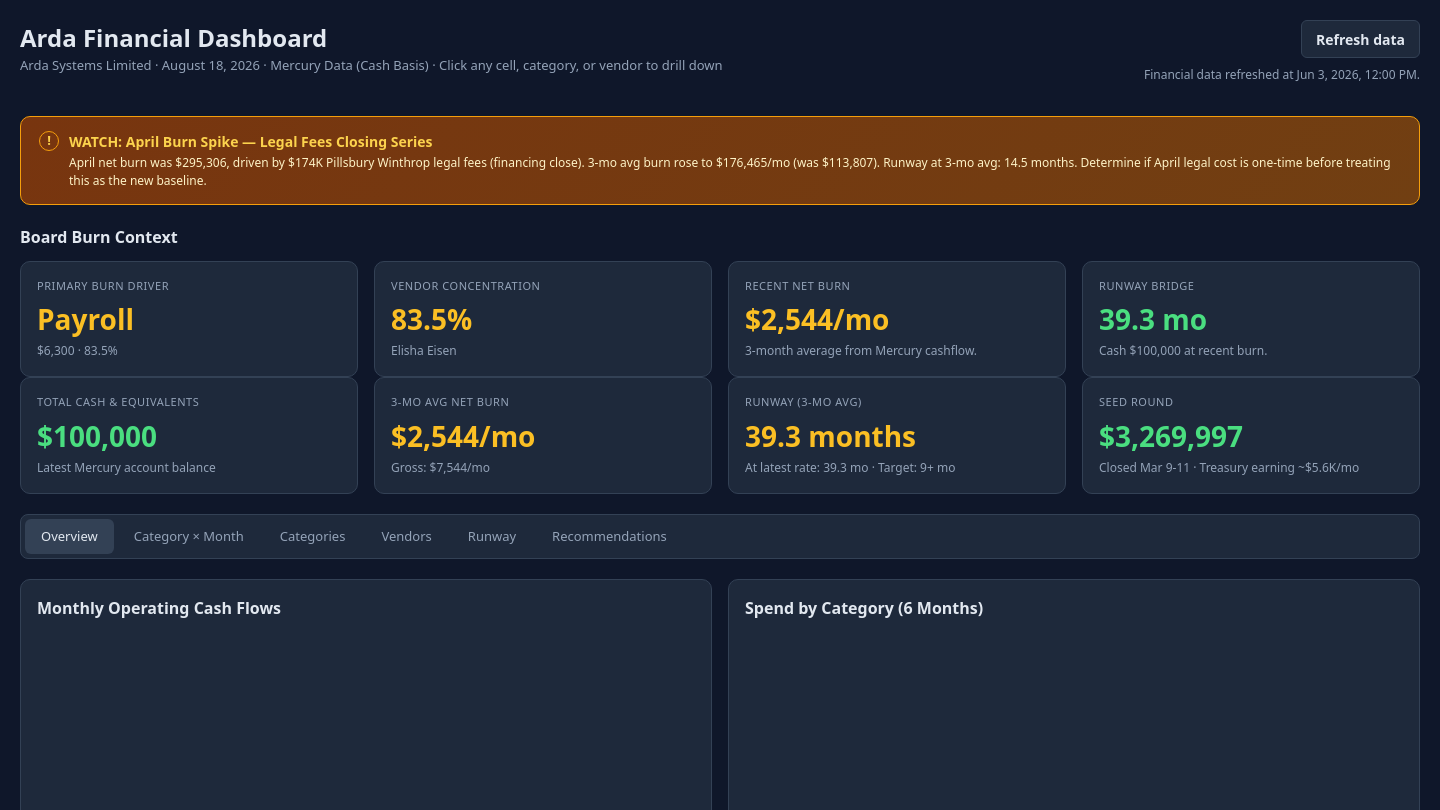
Test: ExpenseDashboard › refreshes from the local WIPGuard expense dashboard API
This screenshot has width=1440, height=810.
Click the button "Refresh data": [1361, 39] box [1301,20,1420,58]
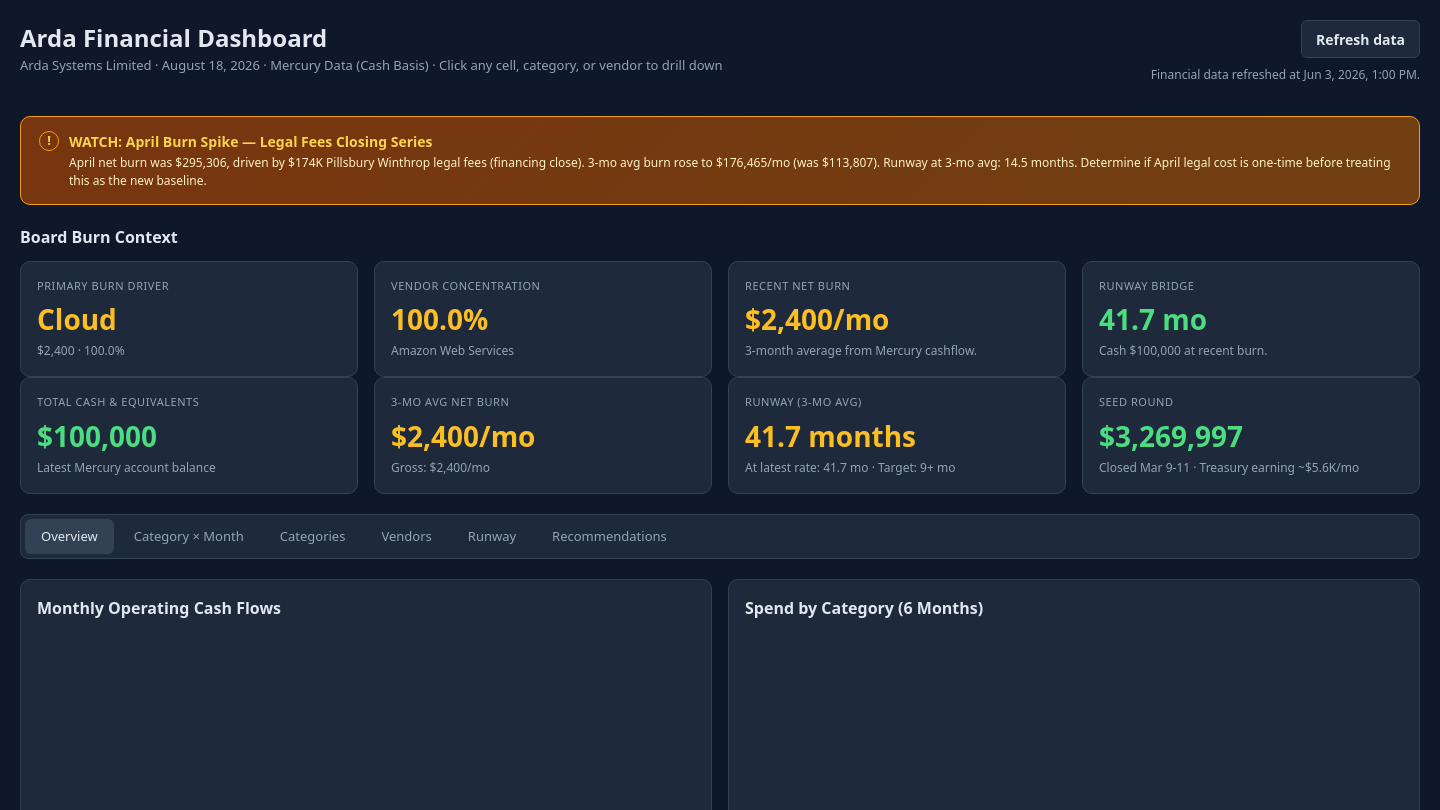
Check: the text "Financial data refreshed at Jun 3, 2026, 1:00 PM." is shown, box [1151,66,1420,84]
Click the button "Categories": [313, 536] box [264,518,361,554]
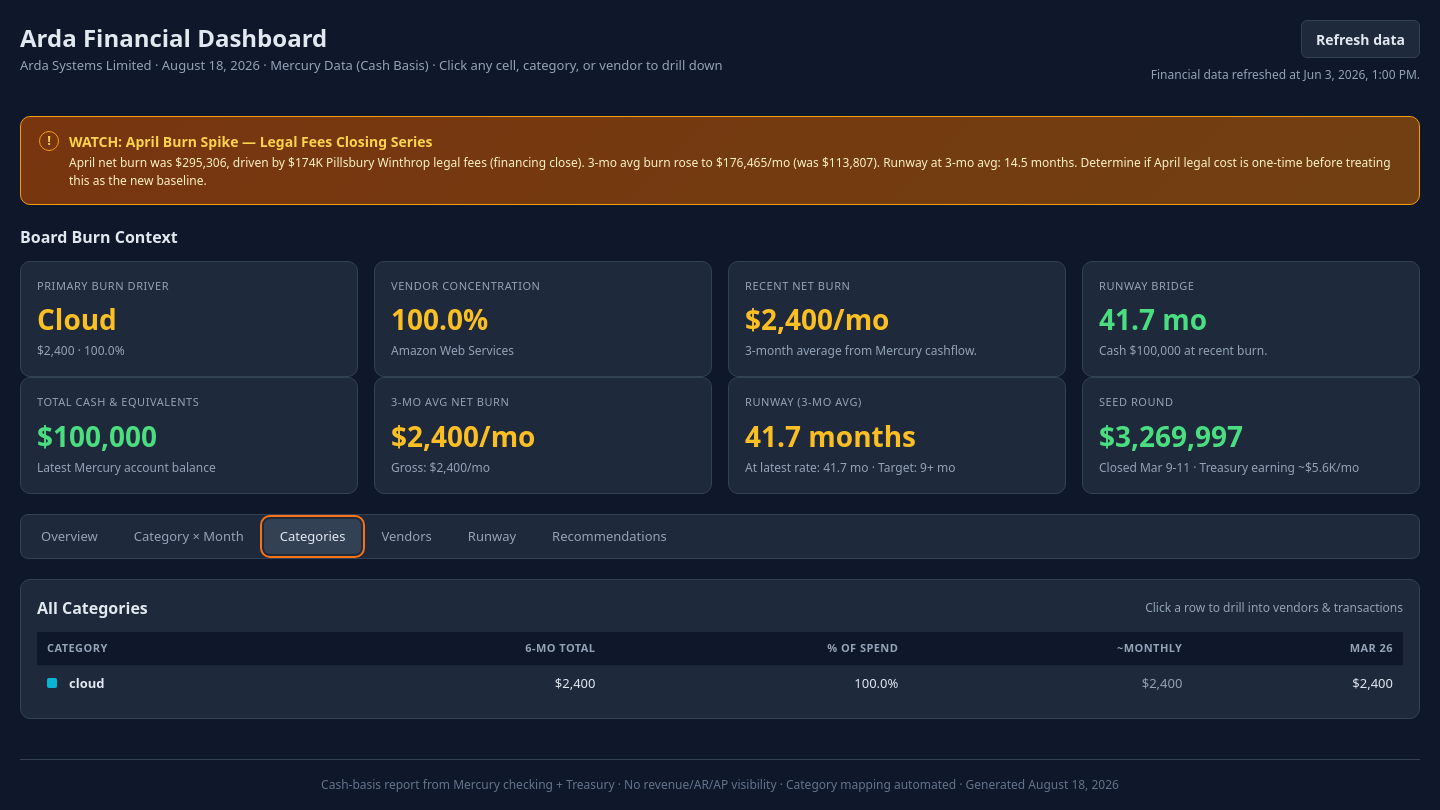
Check: the 1st text "$2,400" is shown, box [306,665,606,702]
